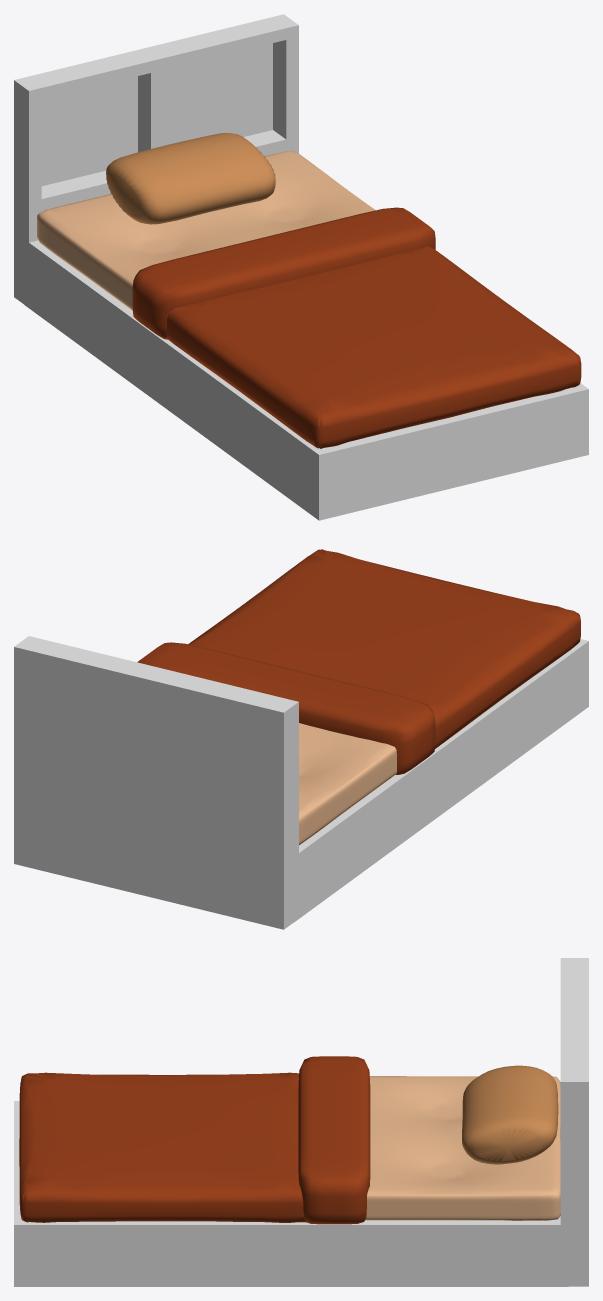
Rendered from bed_tier7.fbx.
3 renders of one model, top to bottom at view 1: azimuth 30°, elevation 25°; view 2: azimuth 150°, elevation 25°; view 3: azimuth 270°, elevation 25°, orthographic. The views are drawn at different scales.
Visible parts, largest first — view 1: Cube, Cube.002, Cube.001, Cylinder.012; view 2: Cube, Cube.002, Cube.001; view 3: Cube.002, Cube, Cube.001, Cylinder.012.
Boxes of the visible parts, box(x1,y1,x2,y2) form: Cube: box(14, 14, 588, 520); Cube.002: box(132, 207, 581, 448); Cube.001: box(37, 151, 375, 310); Cylinder.012: box(106, 133, 275, 224); Cube: box(14, 636, 588, 929); Cube.002: box(137, 549, 580, 774); Cube.001: box(299, 723, 397, 845); Cube.002: box(19, 1056, 370, 1224); Cube: box(14, 958, 588, 1286); Cube.001: box(365, 1076, 560, 1220); Cylinder.012: box(462, 1065, 558, 1164).
Bounding box in the file's own units: 196 × 145 × 370.
